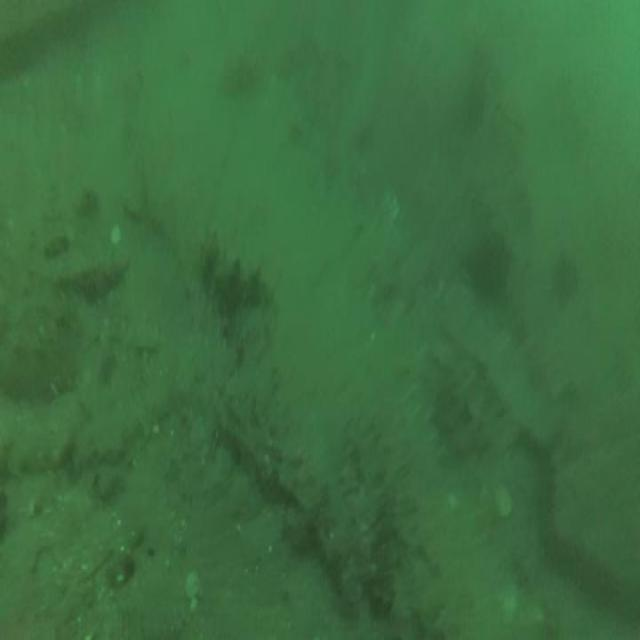echinus: (465, 224, 509, 299), (554, 254, 577, 304)
holothurian: (203, 227, 270, 313), (0, 335, 77, 398), (1, 416, 76, 476)
